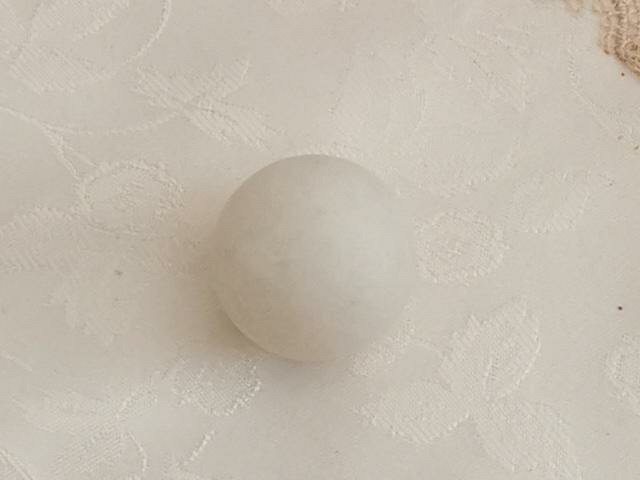ball: (213, 154, 414, 361)
